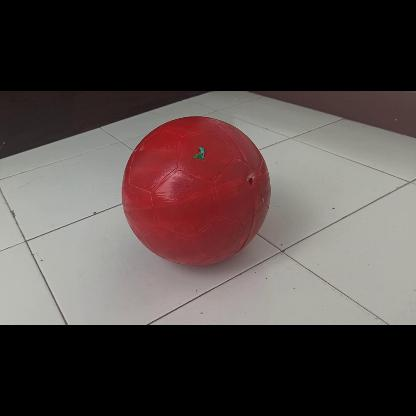red_ball: (121, 112, 272, 264)
